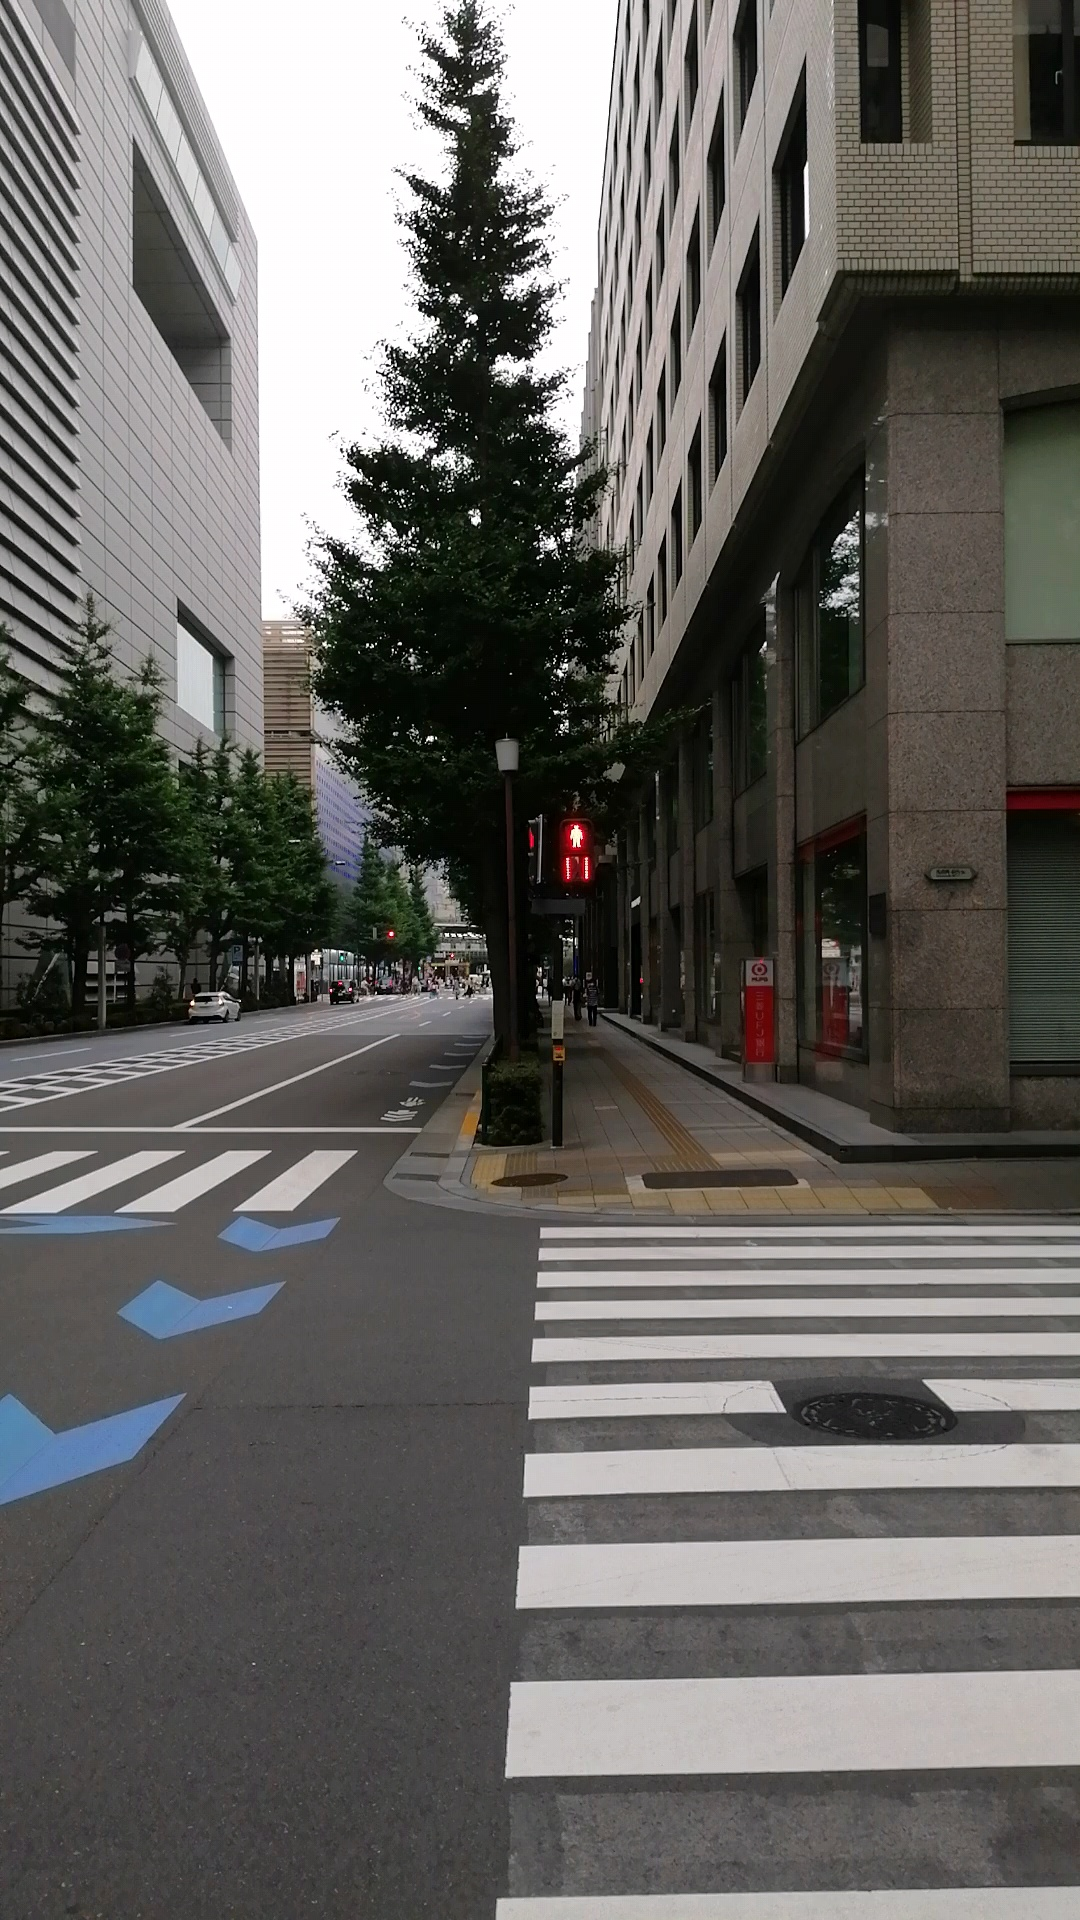red: (556, 818, 595, 886)
